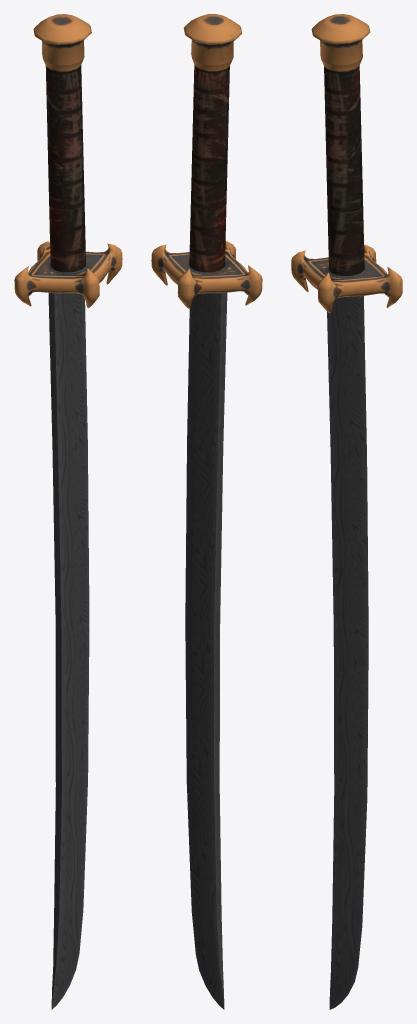
Rendered from araki_katana_test.glb.
3 views of the same model, side by side, from view 1: azimuth 30°, elevation 25°; view 2: azimuth 150°, elevation 25°; view 3: azimuth 330°, elevation 25° (orthographic).
Parts seen in each view (by area): view 1: katana.001; view 2: katana.001; view 3: katana.001.
Boxes of the visible parts, box(x1,y1,x2,y2) form: katana.001: box(14, 14, 122, 1009); katana.001: box(151, 14, 262, 1009); katana.001: box(291, 14, 402, 1009).
Size of the model in its own units: 0.1133 by 1 by 0.0933.
Materials: 1 (1 with a texture image).
